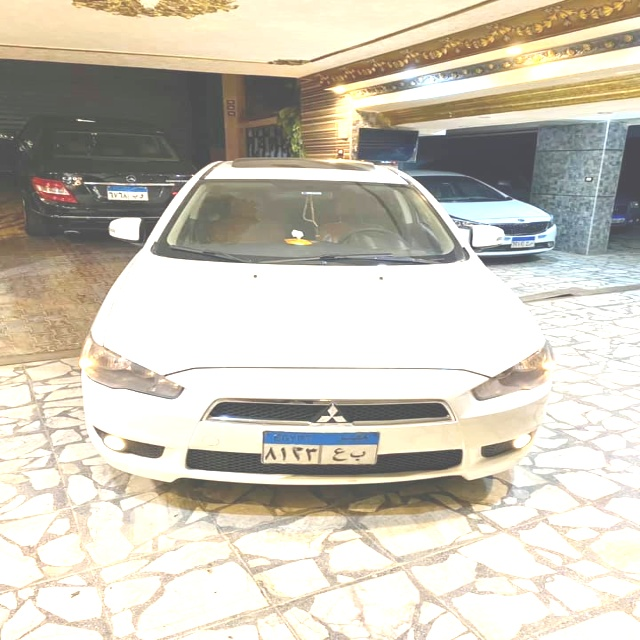License Plate: (260, 429, 381, 469)
